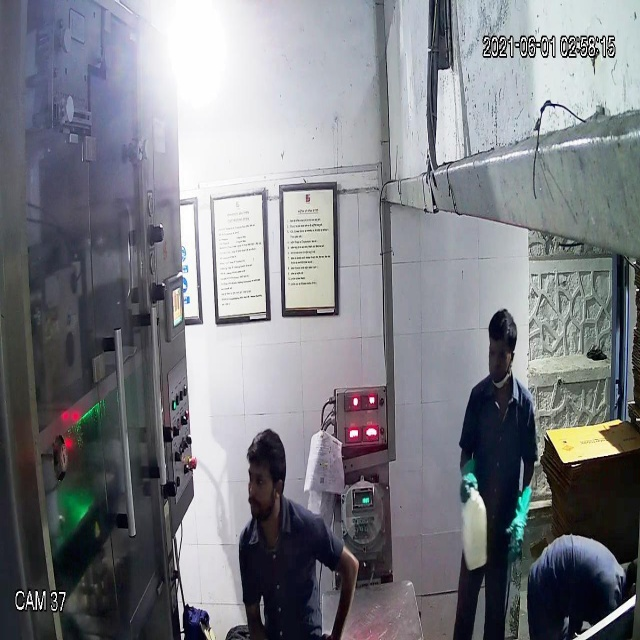Sin_gafas: (484, 340, 517, 371), (245, 469, 282, 494)
